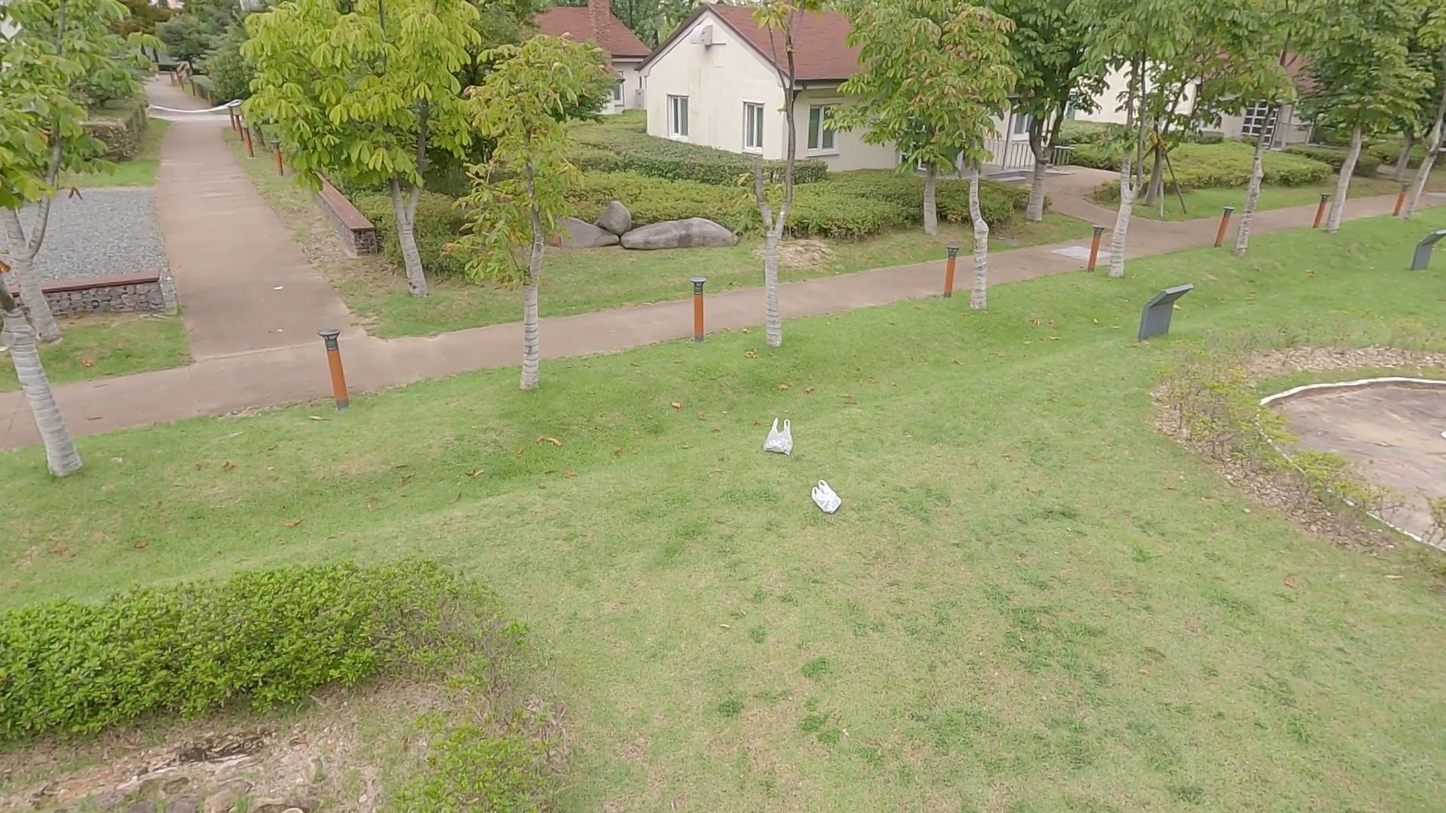trash: (760, 412, 800, 462), (808, 474, 844, 516)
